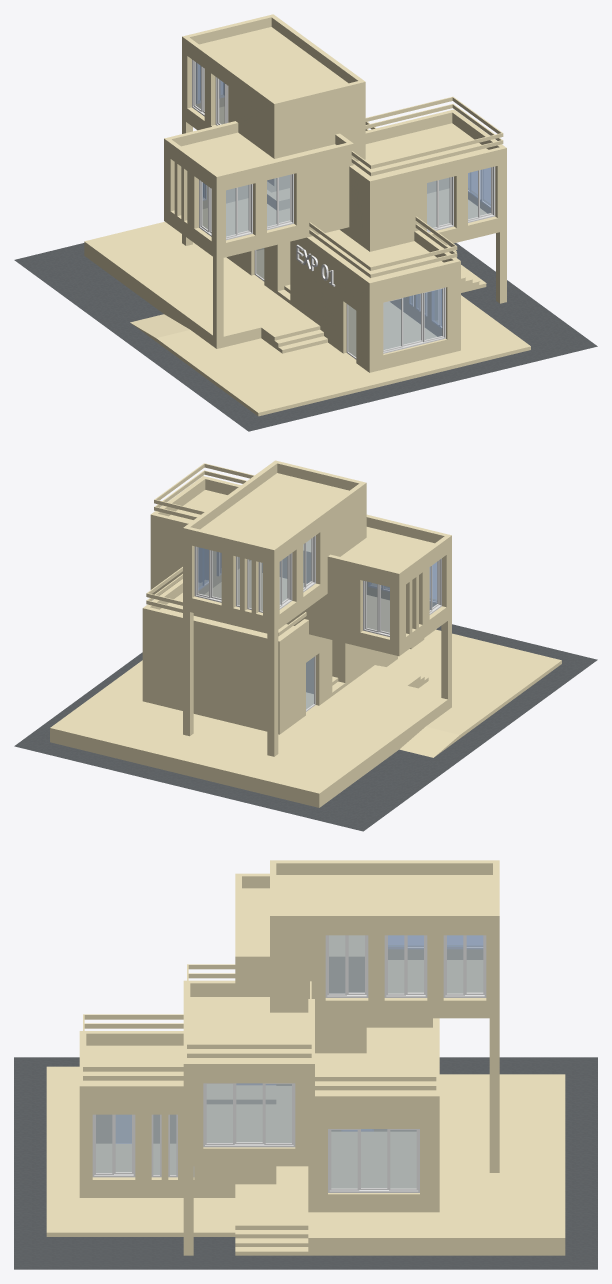
3 renders of one model, top to bottom at view 1: azimuth 30°, elevation 25°; view 2: azimuth 150°, elevation 25°; view 3: azimuth 270°, elevation 25°, orthographic. The views are drawn at different scales.
Visible parts, largest first — view 1: 15747, 14323, 15645, 14080, 14359, 14081, 14083, 15585, 219187, 14831, 14832, 15502 (+17 smaller); view 2: 14359, 14082, 14081, 15747, 14323, 15645, 15585, 14083, 14832, 14080, 14269, 220500 (+12 smaller); view 3: 14359, 15747, 14081, 14080, 14083, 15645, 14082, 15585, 220399, 221392, 14831, 14323 (+17 smaller).
Boxes of the visible parts, x1,y1,x2,y2 form: 15747: (14,243,597,431); 14323: (164,121,353,259); 15645: (130,295,530,416); 14080: (290,230,460,372); 14359: (84,221,486,348); 14081: (182,14,365,186); 14083: (340,109,506,251); 15585: (199,27,348,100); 219187: (383,287,445,353); 14831: (353,123,488,178); 14832: (181,132,336,173); 15502: (312,229,443,280); 14359: (50,660,451,807); 14082: (142,573,332,734); 14081: (183,460,366,632); 15747: (14,624,597,831); 14323: (262,514,451,656); 15645: (387,629,561,757); 15585: (200,473,348,546); 14083: (150,476,240,595); 14832: (303,527,434,570); 14080: (332,583,424,686); 14269: (267,630,278,756); 220500: (194,546,221,602); 14359: (235,1074,565,1255); 15747: (14,1057,597,1269); 14081: (270,860,499,1018); 14080: (79,1031,276,1197); 14083: (183,980,314,1166); 15645: (46,1066,235,1236); 14082: (308,1018,439,1212); 15585: (276,875,492,912); 220399: (203,1083,295,1147); 221392: (328,1129,419,1192); 14831: (190,997,308,1060); 14323: (235,873,366,1053).
Size of the model in its own units: 15.3 by 9.25 by 17.8.
Materials: 1128 (1 with a texture image).
